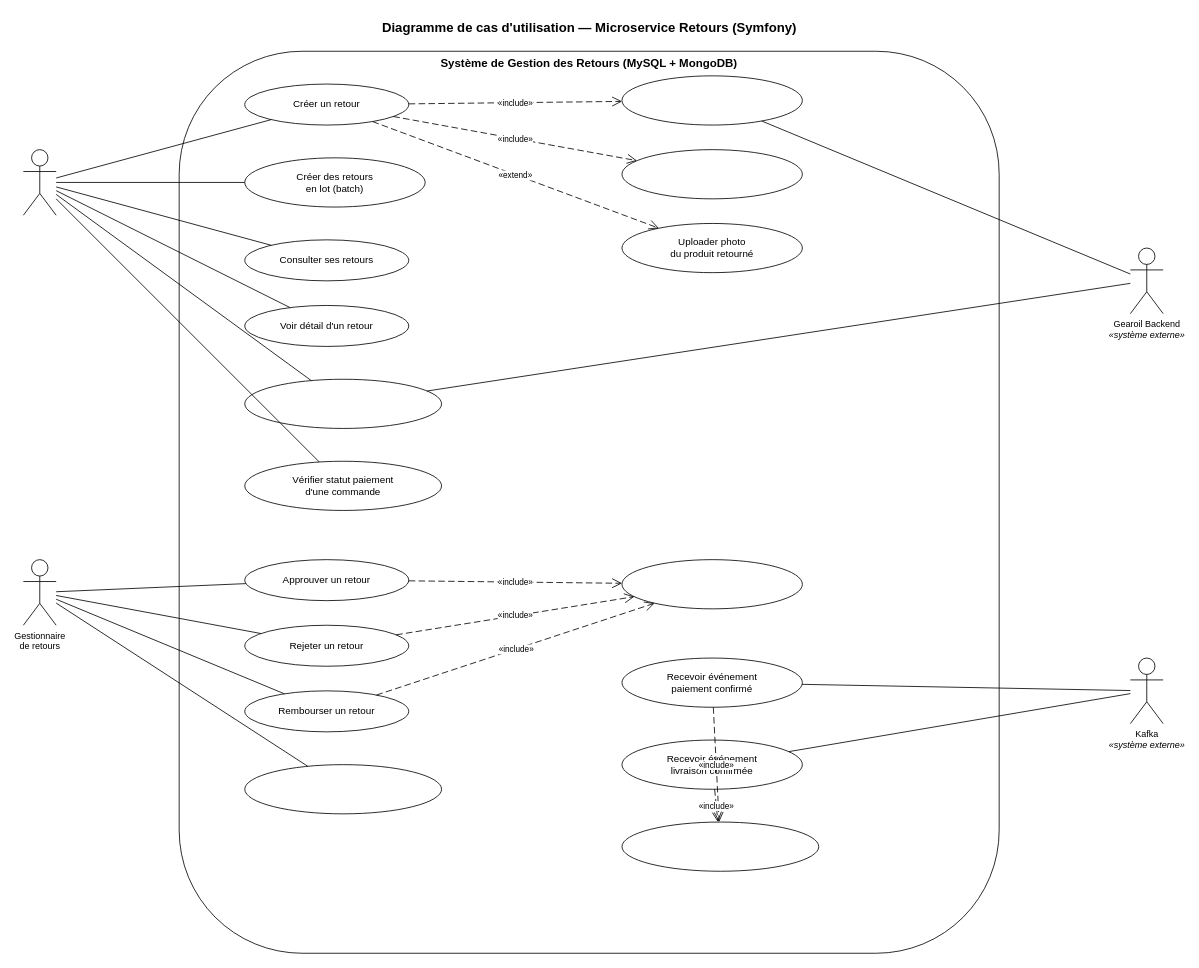
This 1199x968 diagram has some shape labels left out. The centre of each missing label's shape, as x and y in pixels:
"Changer statut retour (Workflow)" belongs at point 711,584.
"Client" belongs at point 39,182.
"Consulter le dashboard (statistiques retours)" belongs at point 343,789.
"Consulter les commandes (cache local)" belongs at point 343,403.
"Mettre à jour cache commandes (MongoDB)" belongs at point 720,846.
"Vérifier livraison de la commande" belongs at point 711,174.
"Vérifier paiement de la commande" belongs at point 711,100.
